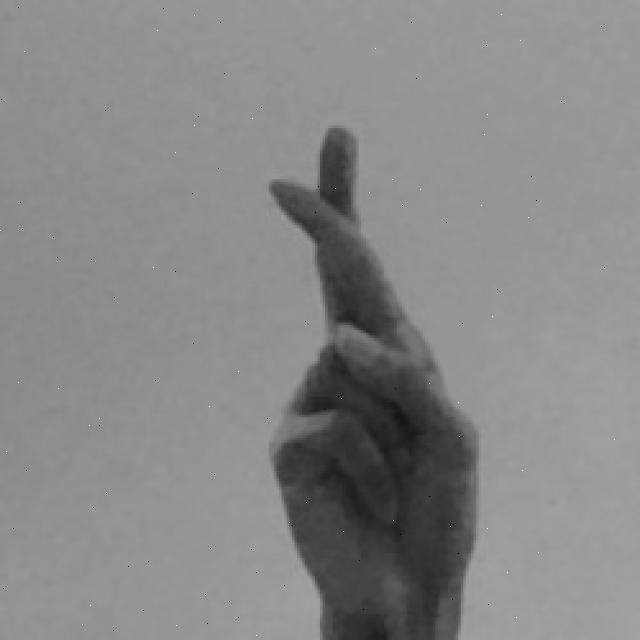R: (261, 118, 487, 640)
